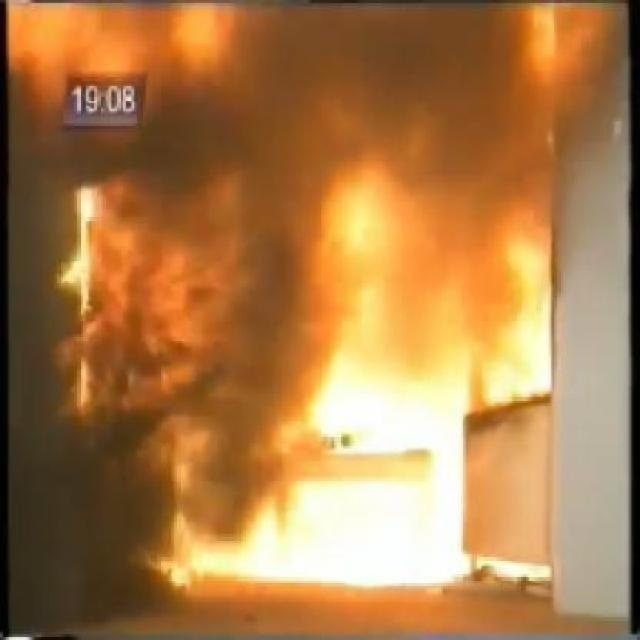fire: (13, 9, 551, 608)
